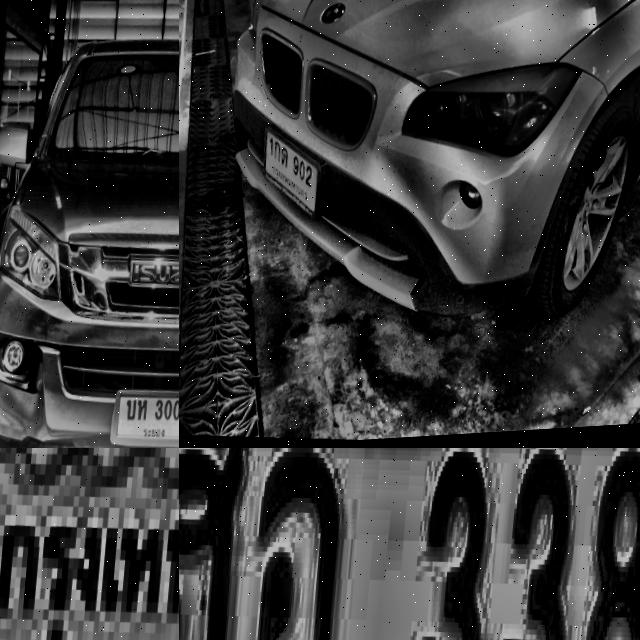license-plate: (179, 448, 640, 640), (0, 448, 179, 640), (254, 126, 324, 226), (109, 386, 179, 448)
